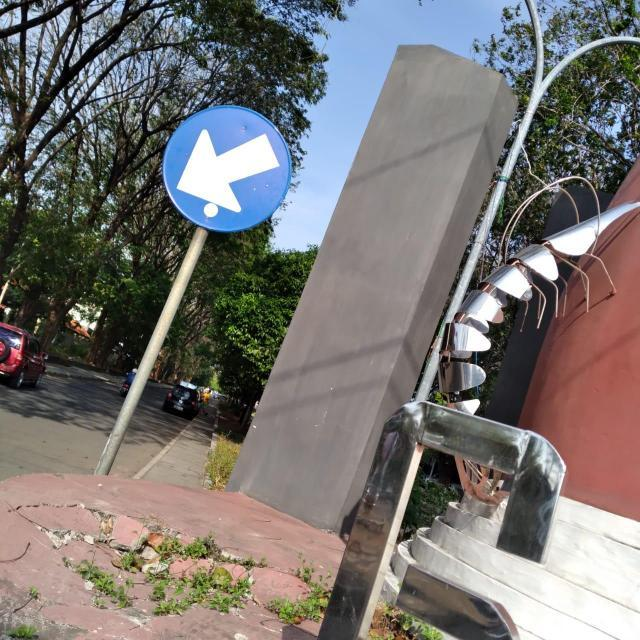traffic sign: (166, 110, 288, 226)
